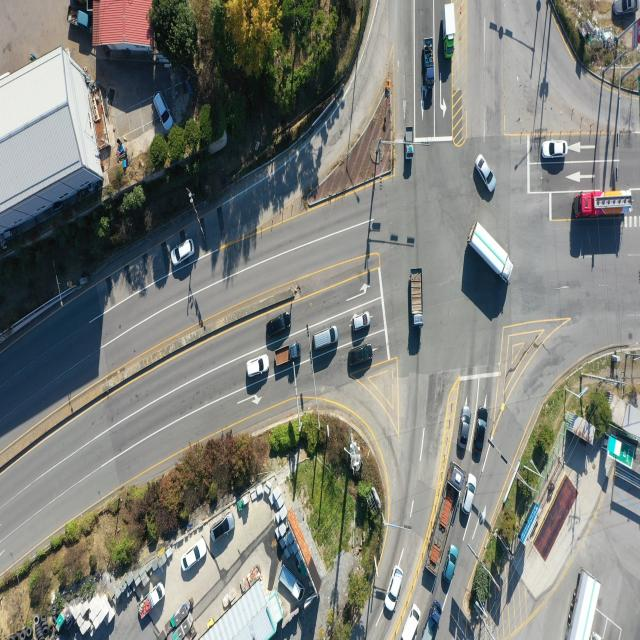car: (385, 564, 405, 611), (180, 540, 207, 574), (398, 605, 424, 640), (153, 93, 172, 134), (474, 407, 488, 460), (478, 154, 497, 192), (348, 343, 374, 370), (312, 325, 338, 351), (267, 312, 292, 338), (171, 240, 194, 268), (212, 514, 234, 542), (462, 474, 476, 514), (459, 407, 471, 452), (247, 354, 270, 377), (445, 545, 459, 582), (542, 140, 568, 159), (351, 312, 370, 332)
medium_truck: (426, 464, 465, 574), (471, 225, 513, 288), (565, 568, 601, 638), (576, 193, 634, 218), (410, 268, 424, 329)
small_truck: (137, 580, 168, 622), (278, 558, 305, 604), (422, 602, 443, 640), (65, 3, 90, 33), (444, 3, 456, 58), (275, 342, 301, 367), (424, 39, 436, 86), (406, 127, 415, 161)
